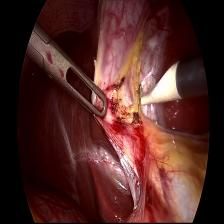Grasper: (28, 26, 108, 119)
Hook: (136, 58, 184, 111)
